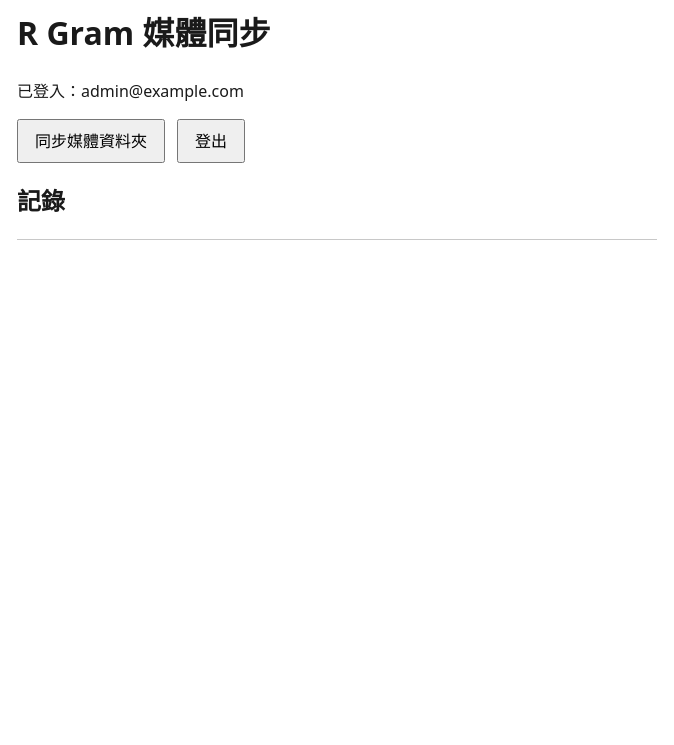
Test: sync page and the removals API › should list pending removals without ever requesting the removals endpoint
The width and height of the screenshot is (674, 745).
What coordinates should you click on to do the following:
click the button "同步媒體資料夾"
I would click on:
 (91, 141)
Its box is [17, 119, 165, 163].
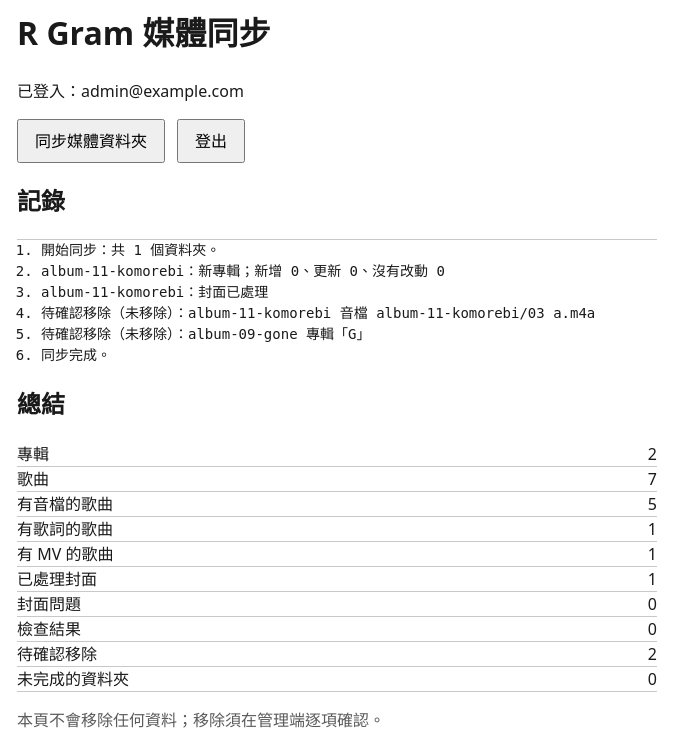
Now the list item "同步完成。" is shown, box [41, 347, 111, 363]
Now the list shows "待確認移除（未移除）", box [41, 305, 595, 321]
